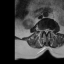CCS_normal: (45, 26, 47, 35)
LFS_stenosis: (49, 27, 51, 33)
LLS_normal: (47, 27, 49, 33)
RFS_stenosis: (41, 27, 43, 33)
RLS_normal: (43, 27, 45, 33)
